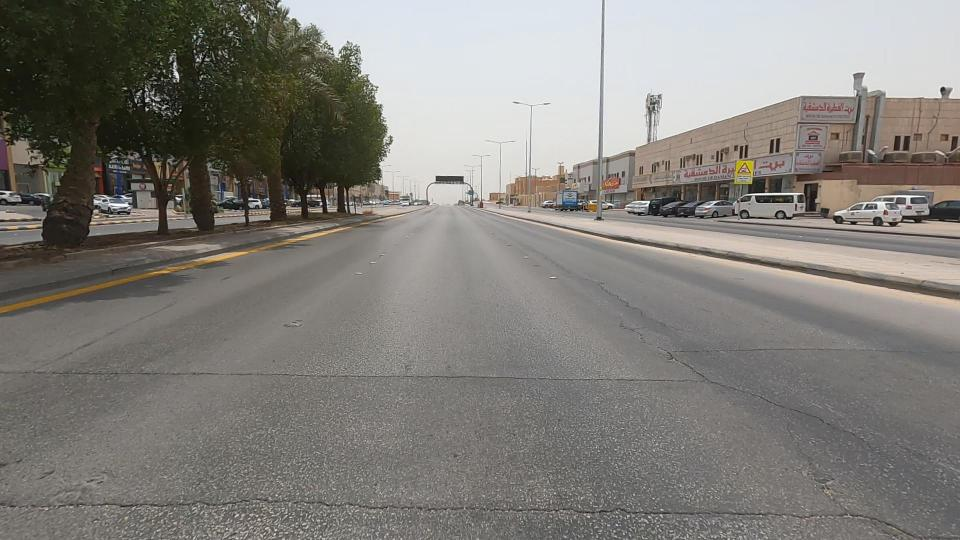BAD_BILLBOARD: (607, 150, 700, 202)
